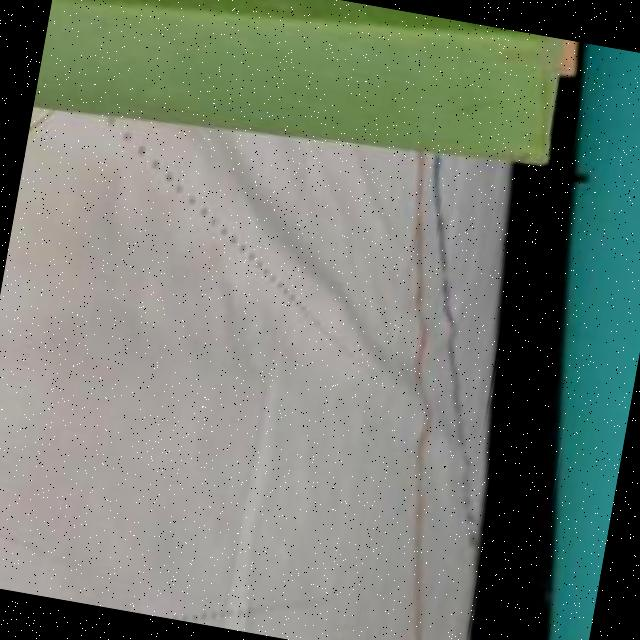greenbox: (31, 0, 570, 203)
